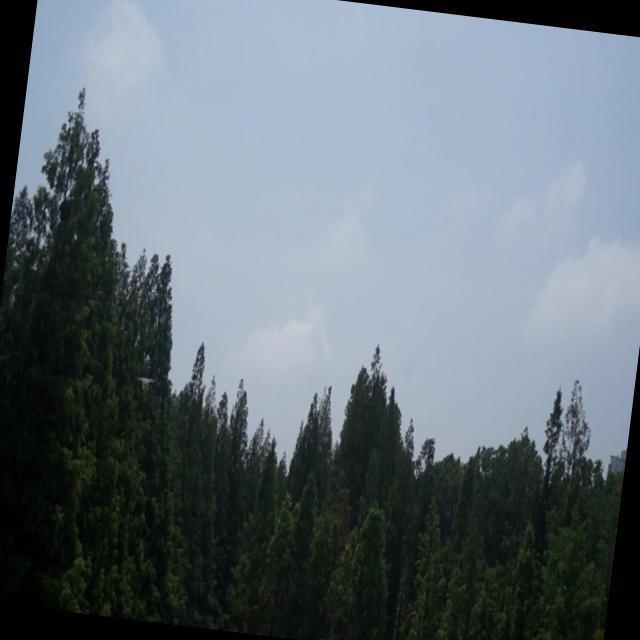drone: (131, 369, 157, 394)
